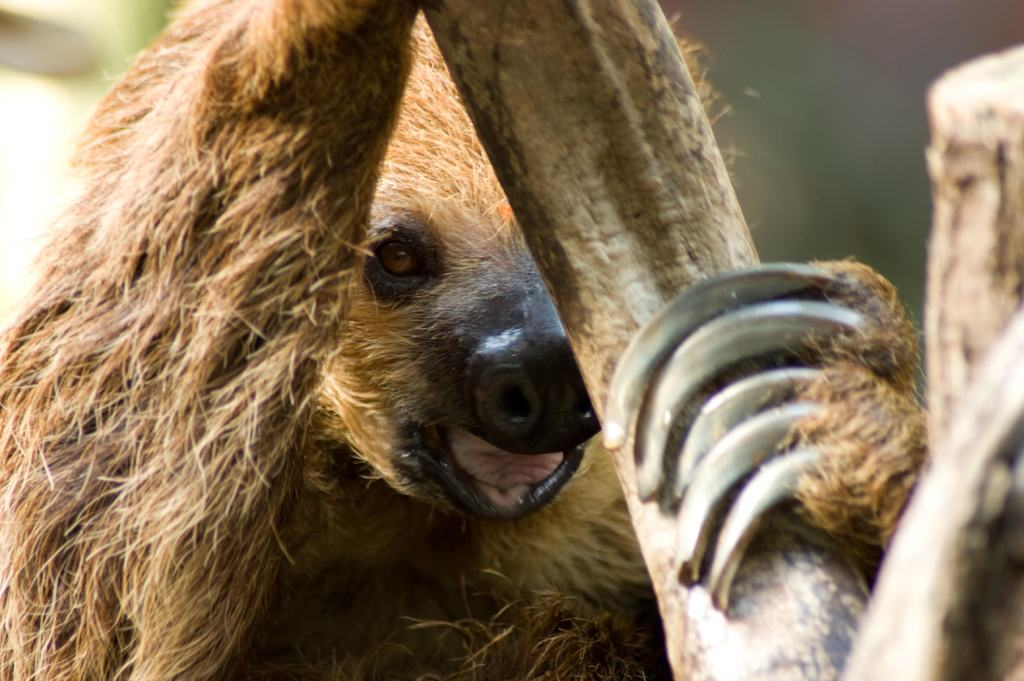Animal: (0, 0, 930, 680)
